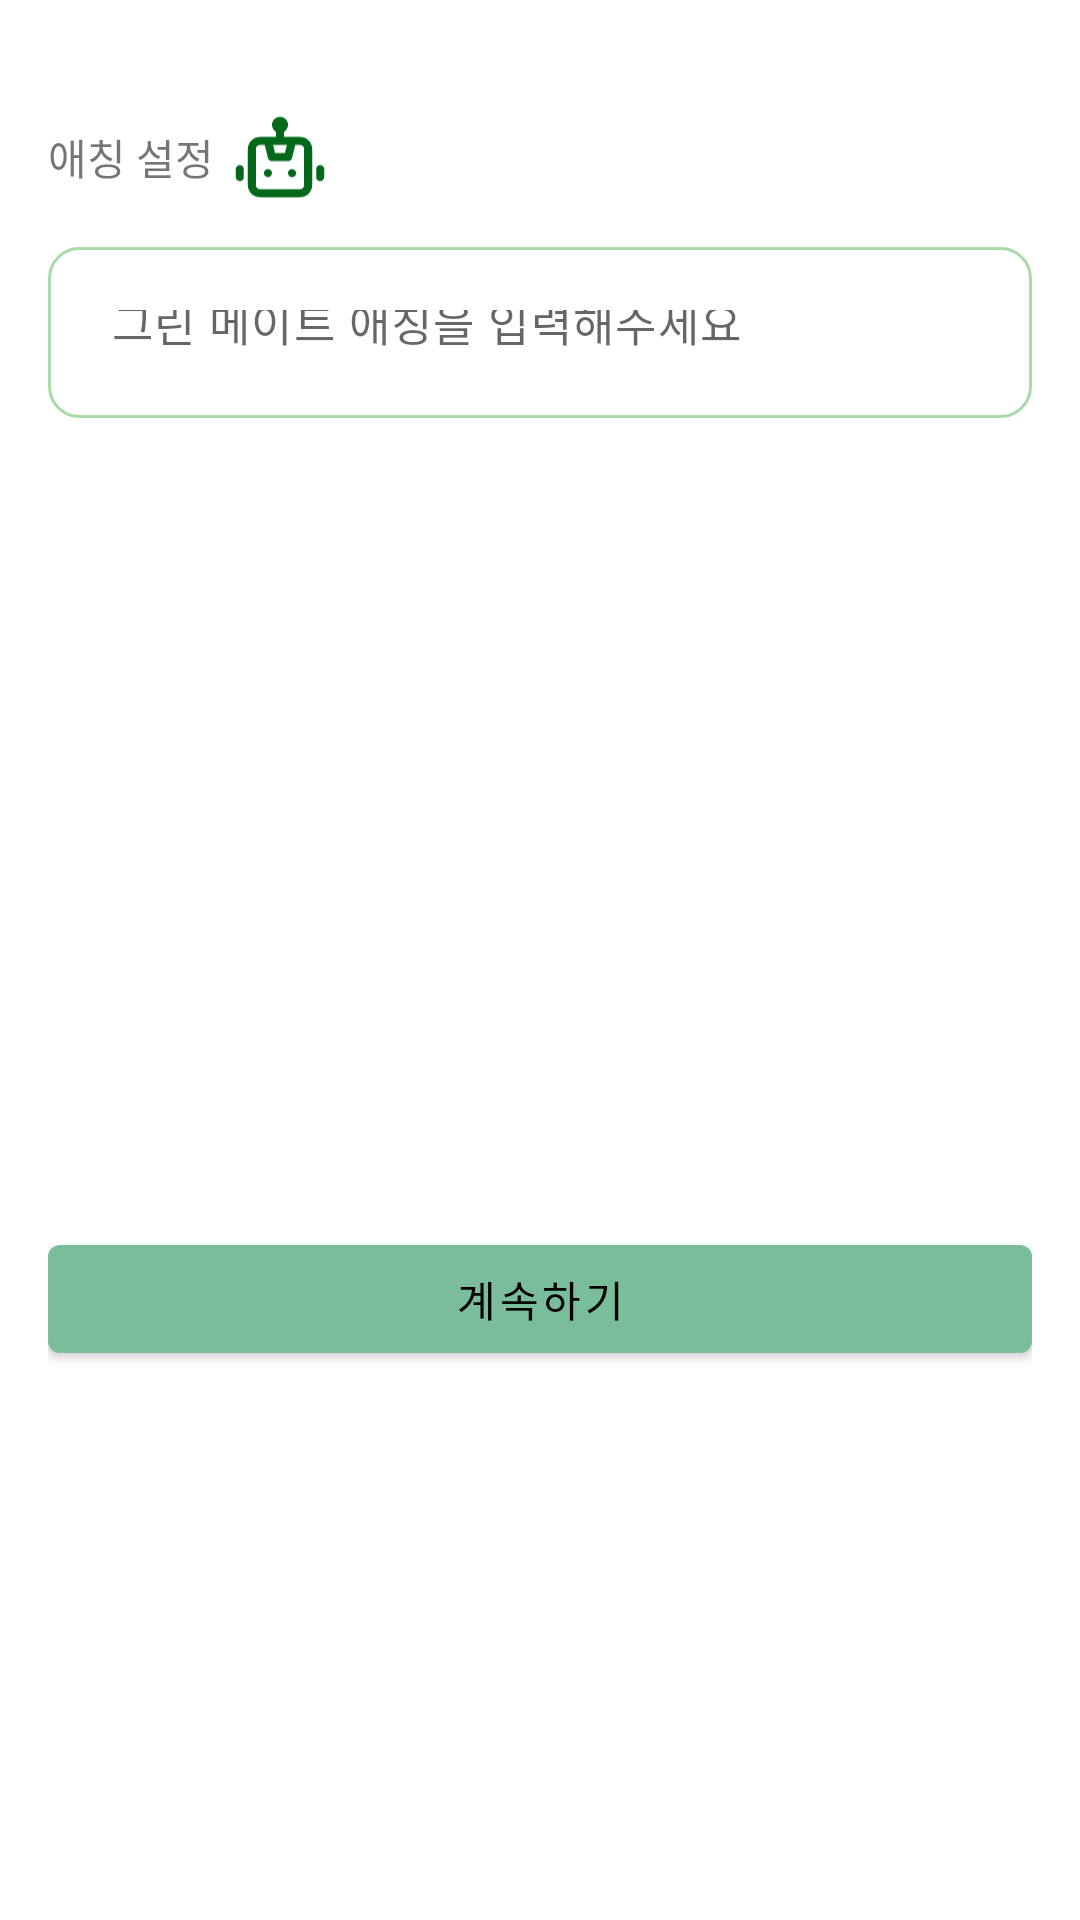

Screen size 1080 x 1920. Icon name, then its box in pixels as (x1, y1, x2, y2):
robot: (235, 116, 325, 198)
